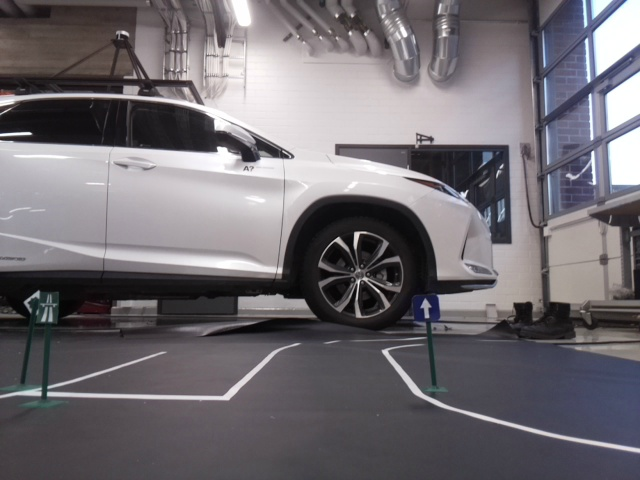OneWay: (412, 295, 441, 322)
